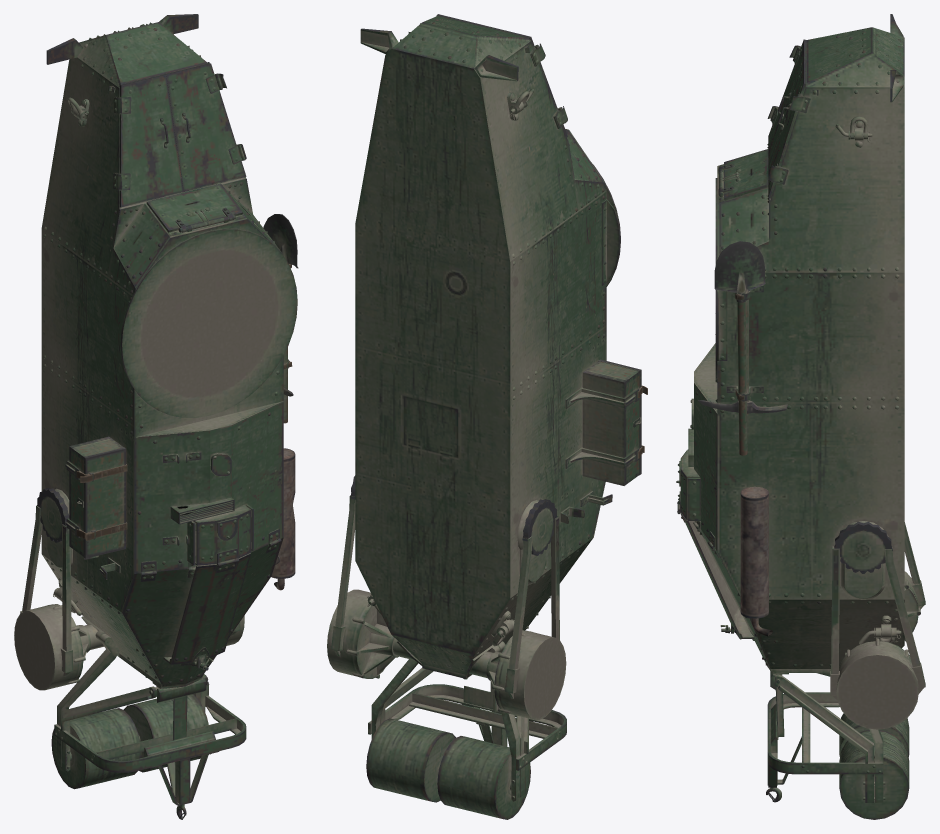
File: Hull.glb
The picture shows the model from 3 angles, left to right: view 1: azimuth 30°, elevation 25°; view 2: azimuth 150°, elevation 25°; view 3: azimuth 270°, elevation 25°; orthographic projection. The views are drawn at different scales.
Parts seen in each view (by area): view 1: set_0_group_0; view 2: set_0_group_0; view 3: set_0_group_0.
Part boxes in pixels (x1,y1,x2,y2): set_0_group_0: (14,14,298,819); set_0_group_0: (327,14,647,819); set_0_group_0: (676,14,925,819).
Size of the model in its own units: 1.46 by 4.69 by 1.39.
1 material, 1 textured.
